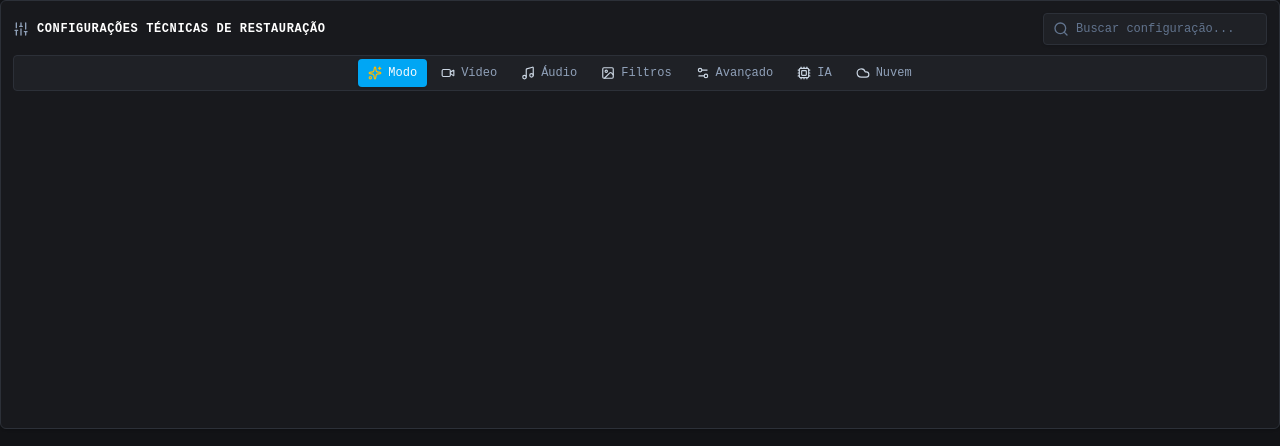
Scenario: RestorationSettings UX/UI & Layout Tests ("Feng Shui" & Coerência Visual) › automatically routes to matching tab when searching keywords (rife -> AI tab)
Type "rife" into the field with test id "settings-search-input" at (1155, 29), box [1043, 13, 1267, 45]
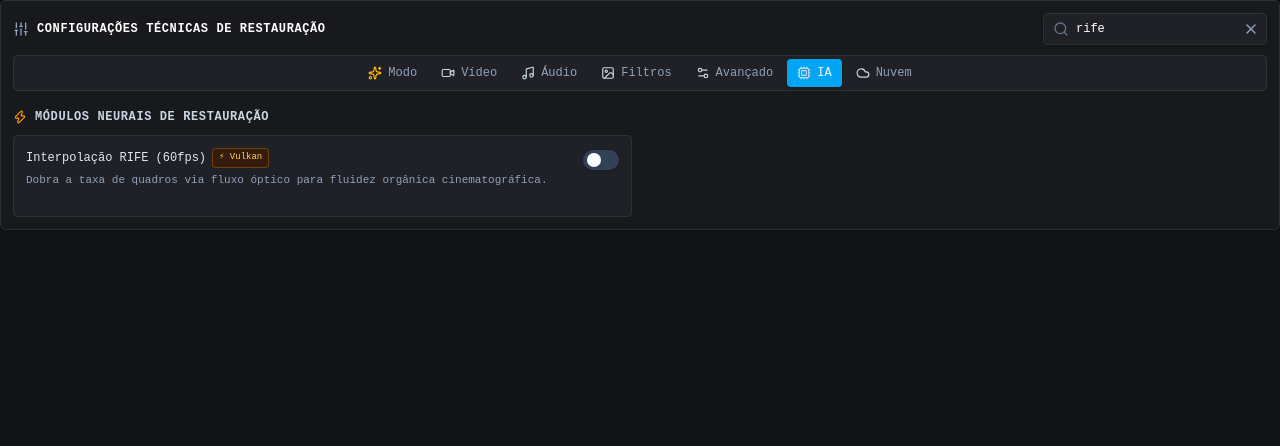
expect the text "Interpolação RIFE (60fps)" is shown: met, box [26, 150, 206, 166]
expect the switch named "Interpolação RIFE (60fps)" is shown: met, box [583, 150, 619, 170]
